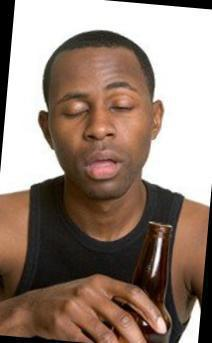Drunk: (48, 54, 151, 200)
